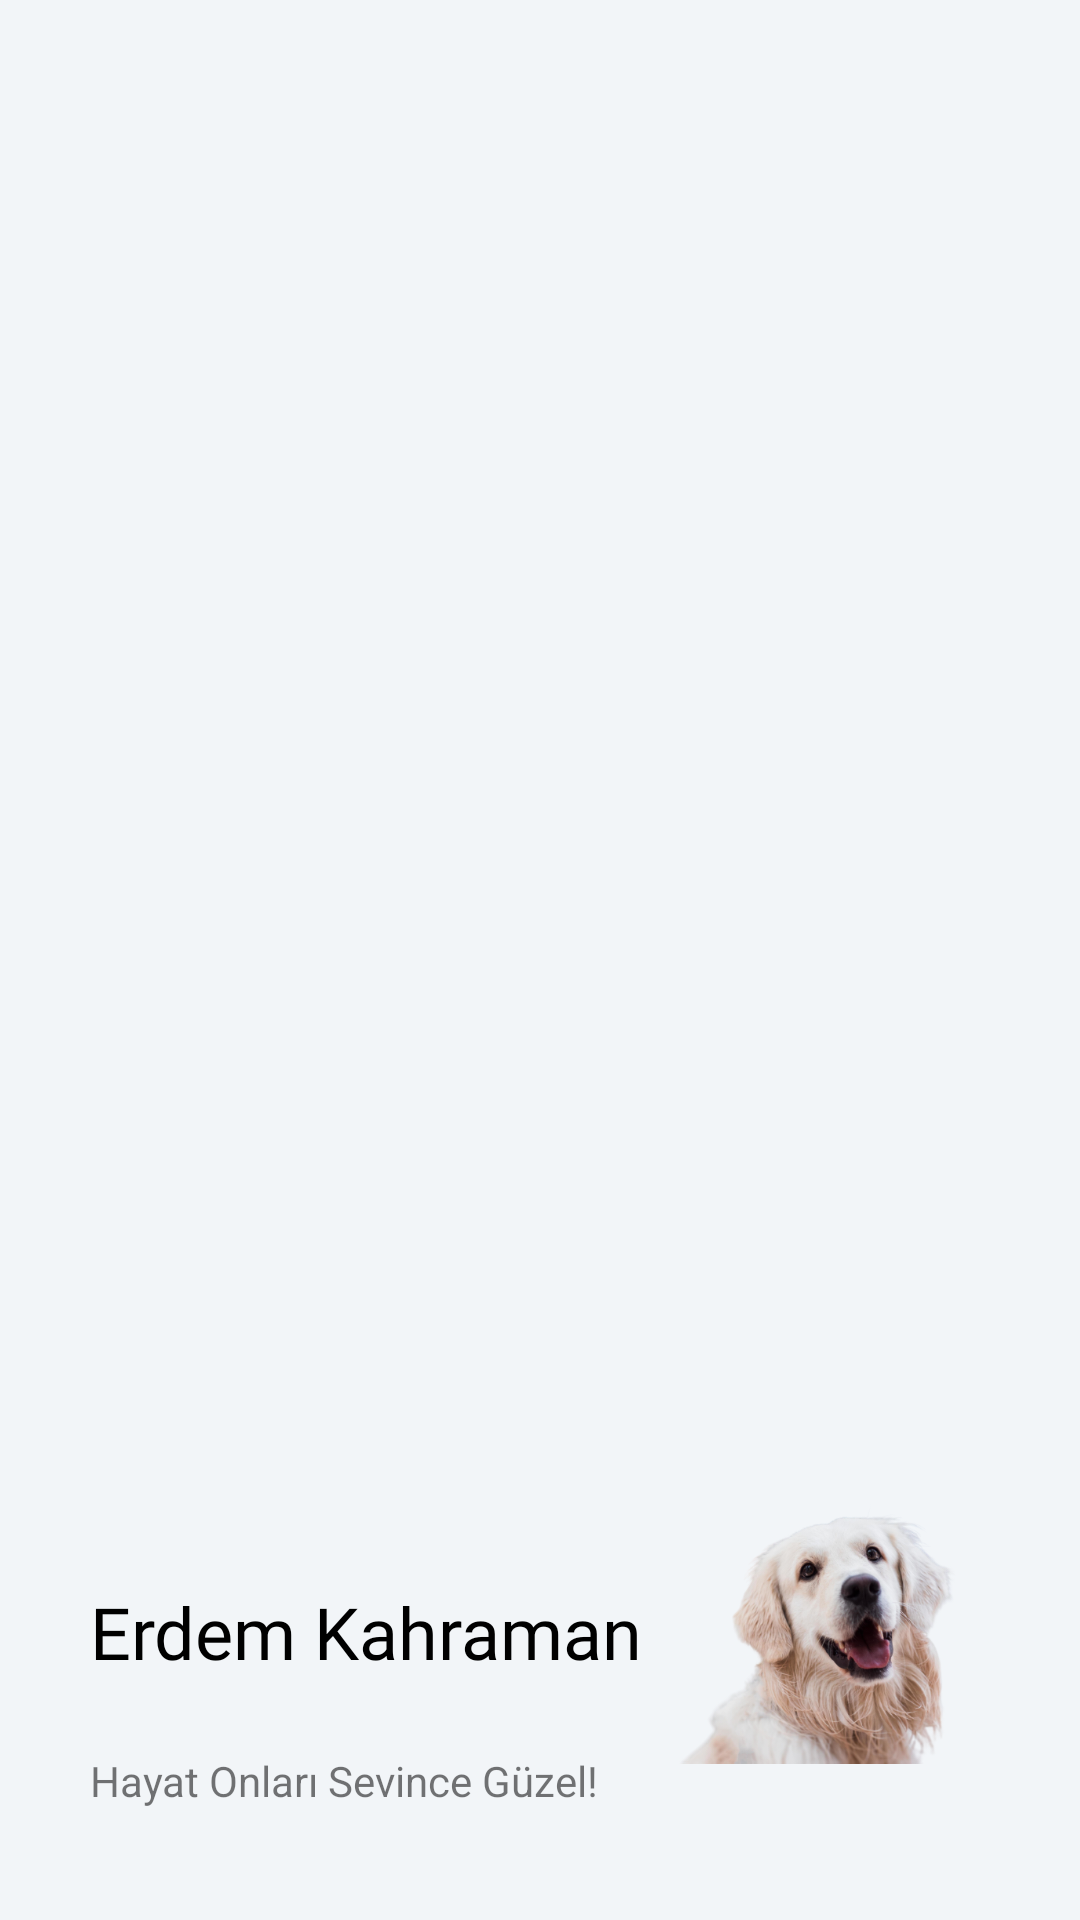

Named icons in this screenshot (1080 x 1920) and their centers, (x,y):
dogtransparent: (777,1641)
